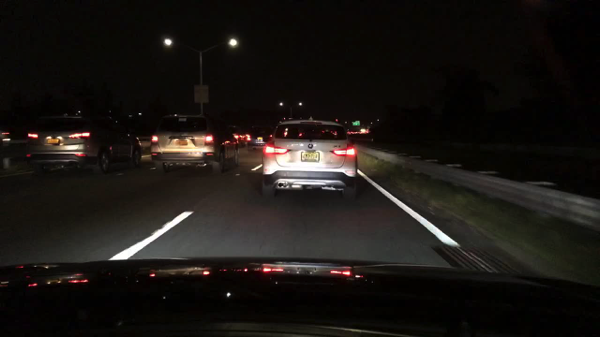car: (261, 116, 358, 201), (24, 113, 141, 176), (151, 114, 239, 175), (0, 127, 13, 173), (245, 129, 272, 151), (230, 126, 245, 148), (360, 127, 369, 133), (346, 130, 352, 136), (352, 130, 360, 134)
traffic sign: (194, 84, 209, 103), (352, 121, 360, 126)
